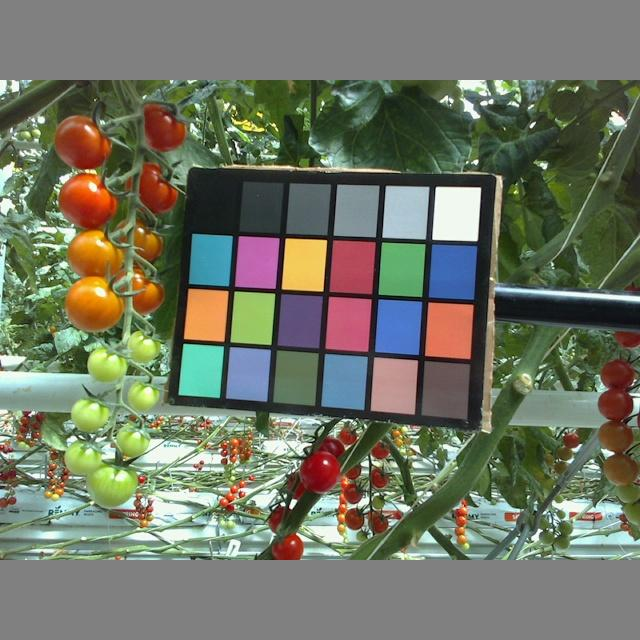green: (85, 459, 138, 507), (64, 440, 104, 478), (86, 349, 128, 384), (69, 399, 110, 433), (123, 329, 161, 364), (115, 424, 150, 458), (550, 89, 582, 122), (127, 382, 160, 412)
pink: (56, 170, 118, 229), (63, 275, 123, 333), (53, 113, 114, 168), (107, 268, 166, 319), (123, 162, 178, 216), (65, 230, 123, 279), (135, 102, 186, 152), (114, 218, 166, 265), (601, 450, 640, 487), (597, 388, 636, 424), (597, 420, 632, 454), (601, 357, 636, 390)
red: (298, 451, 340, 495), (266, 504, 302, 532), (270, 533, 304, 560)
